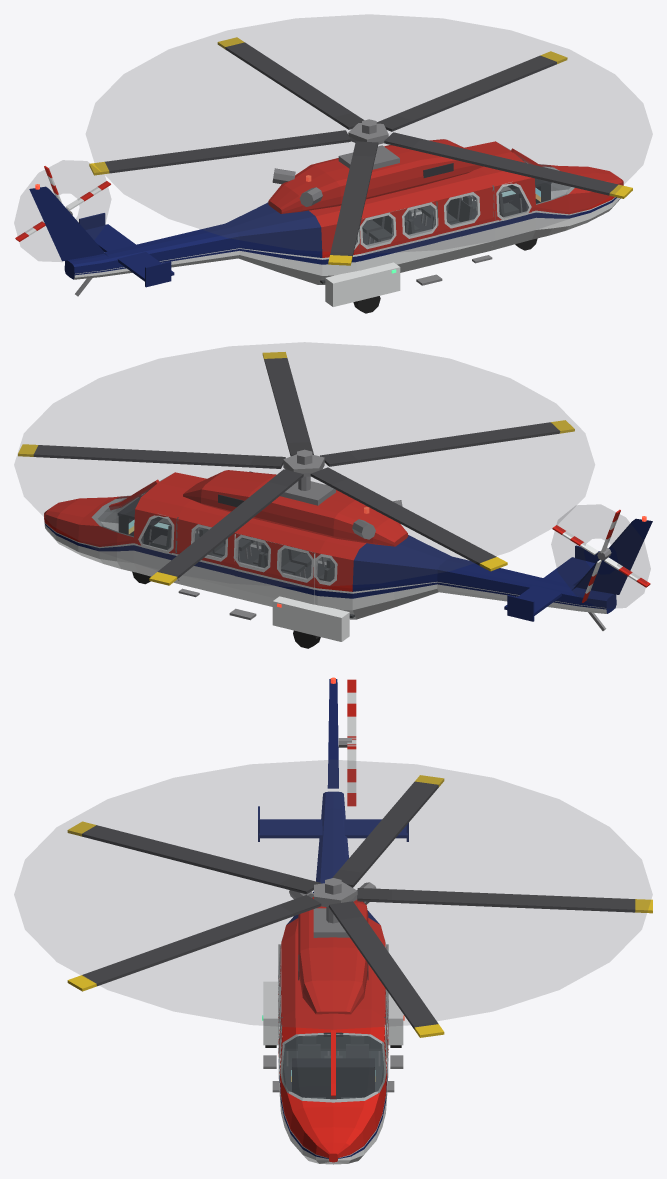
File: heli.glb
The picture shows the model from 3 angles, top to bottom: view 1: azimuth 30°, elevation 25°; view 2: azimuth 150°, elevation 25°; view 3: azimuth 270°, elevation 25°; orthographic projection. The views are drawn at different scales.
Parts seen in each view (by area): view 1: HeliMainDisc, HeliBody, HeliMainRotor, HeliTailDisc, HeliDoorR, HeliTailRotor; view 2: HeliMainDisc, HeliBody, HeliMainRotor, HeliTailDisc, HeliDoorL, HeliTailRotor; view 3: HeliMainDisc, HeliBody, HeliMainRotor, HeliTailRotor.
Boxes of the visible parts, bbox=[...] form: HeliMainDisc: bbox=[86, 15, 652, 253]; HeliBody: bbox=[29, 139, 623, 306]; HeliMainRotor: bbox=[89, 37, 632, 265]; HeliTailDisc: bbox=[14, 160, 110, 261]; HeliDoorR: bbox=[359, 201, 438, 270]; HeliTailRotor: bbox=[15, 166, 110, 241]; HeliMainDisc: bbox=[14, 342, 594, 586]; HeliBody: bbox=[44, 470, 652, 641]; HeliMainRotor: bbox=[18, 352, 574, 585]; HeliTailDisc: bbox=[551, 505, 650, 608]; HeliDoorL: bbox=[233, 533, 315, 604]; HeliTailRotor: bbox=[552, 509, 650, 602]; HeliMainDisc: bbox=[14, 760, 652, 1028]; HeliBody: bbox=[258, 677, 408, 1164]; HeliMainRotor: bbox=[67, 775, 652, 1037]; HeliTailRotor: bbox=[338, 679, 356, 806].
Bounding box in the file's own units: 17.8 × 5.39 × 14.6.
